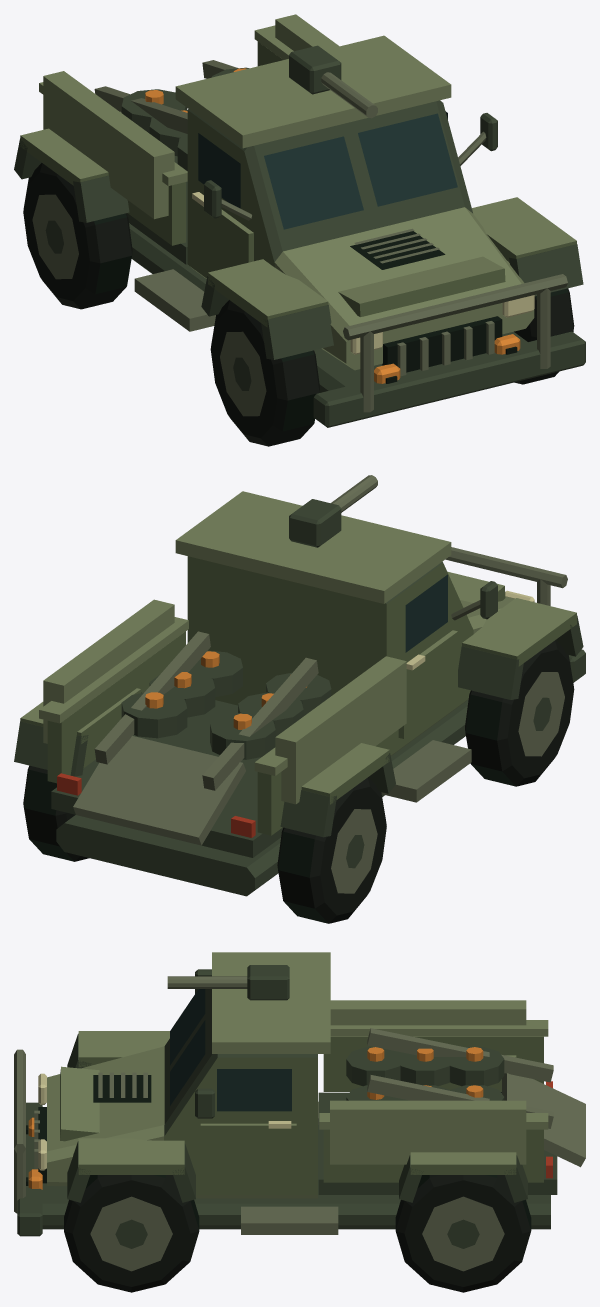
File: minelayer_armored.glb
The picture shows the model from 3 angles, top to bottom: view 1: azimuth 30°, elevation 25°; view 2: azimuth 150°, elevation 25°; view 3: azimuth 270°, elevation 25°; orthographic projection. The views are drawn at different scales.
Visible parts, largest first — view 1: Body, Wheel_-1_1.18, Wheel_-1_-1.17, WeaponPitch, Wheel_1_-1.17; view 2: Body, Wheel_-1_1.18, Wheel_-1_-1.17, Wheel_1_1.18, WeaponPitch; view 3: Body, Wheel_1_1.18, Wheel_1_-1.17, WeaponPitch.
Part boxes in pixels (x1,y1,x2,y2): Body: (14,14,585,427); Wheel_-1_1.18: (23,163,132,309); Wheel_-1_-1.17: (210,300,319,446); WeaponPitch: (289,45,377,118); Wheel_1_-1.17: (509,262,574,384); Body: (14,491,585,896); Wheel_-1_1.18: (277,777,386,923); Wheel_-1_-1.17: (465,640,574,786); Wheel_1_1.18: (23,765,89,861); WeaponPitch: (289,475,377,547); Body: (14,952,585,1236); Wheel_1_1.18: (395,1175,531,1292); Wheel_1_-1.17: (64,1175,199,1292); WeaponPitch: (167,965,289,1000).
Bounding box in the file's own units: 3.85 × 3.5 × 6.97.
1 material, 1 textured.
